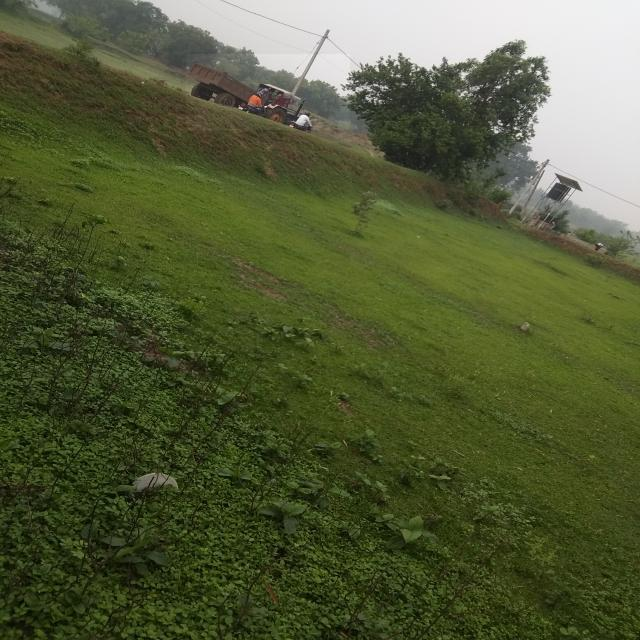Tractot: (187, 54, 350, 130)
